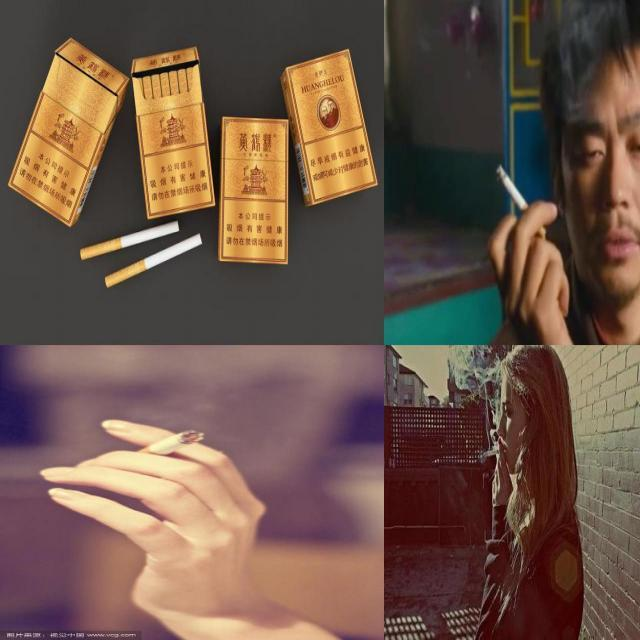smoke: (105, 232, 203, 288), (494, 161, 548, 238), (80, 220, 180, 260), (134, 429, 206, 456), (483, 448, 501, 458)
